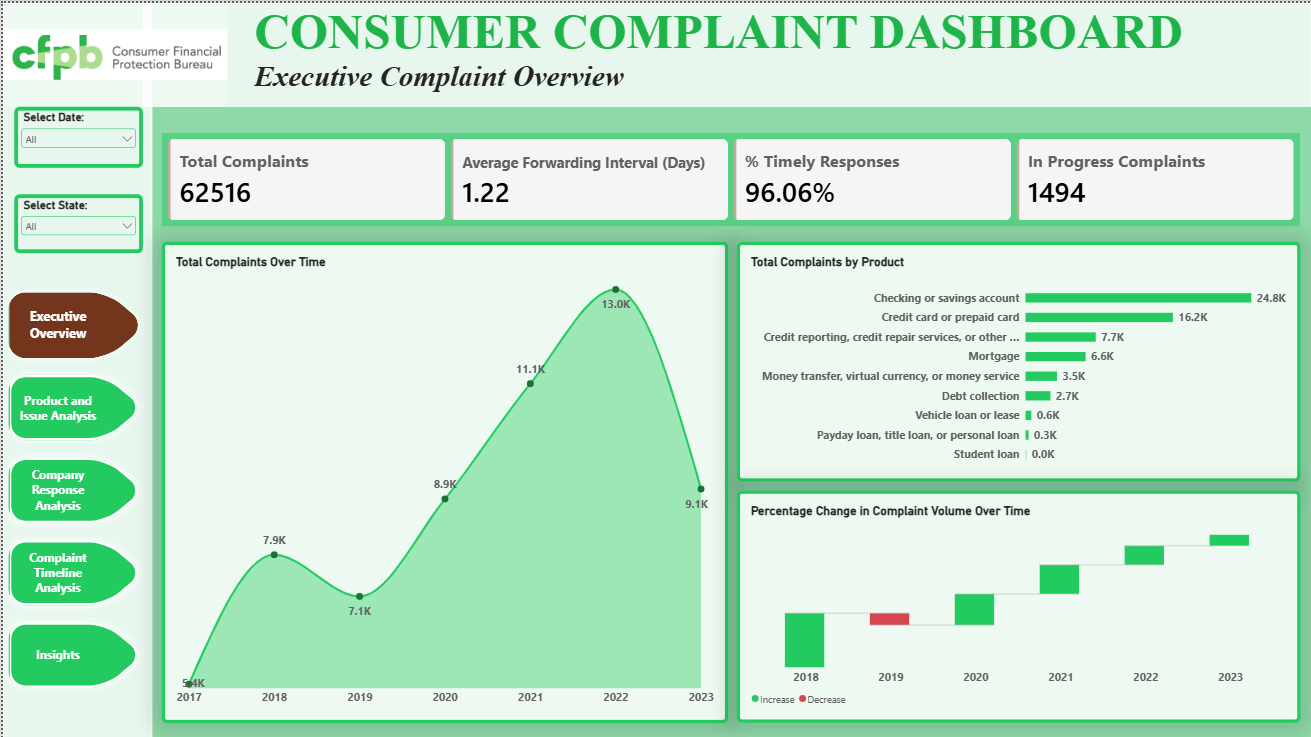

What the dashboard file says about the page in this screenshot:
{"tool":"powerbi","page":{"name":"Executive Overview","canvas":[1920,1080],"ordinal":0},"visuals":[{"type":"shape","box":[0,0,219,1080.4],"z":0},{"type":"slicer","title":"Select Date:","fields":{"Values":["Date.Year","Date.Quarter","Date.Month"]},"box":[16.5,152.2,188.9,89.9],"z":0,"group":"g2"},{"type":"shape","box":[206.3,0,1713.7,152],"z":1000},{"type":"image","box":[0,0,329.4,152],"z":2000},{"type":"slicer","fields":{"Values":["Consumer_Complaints.State"]},"box":[16.5,280.6,188.9,86.2],"z":2000,"group":"g2"},{"type":"textbox","box":[369.2,0,1550.9,152],"z":3000},{"type":"pageNavigator","title":"Navigation","box":[0,416.4,218.3,601.6],"z":4000},{"type":"areaChart","title":"Total Complaints Over Time","fields":{"Category":["Date.Year","Date.Month"],"Y":["Calculations.Total Complaints"]},"box":[232.6,349.9,831.6,706],"z":5000},{"type":"cardVisual","fields":{"Data":["Calculations.Total Complaints","Calculations.Average Forwarding Interval","Calculations.% Timely Responses","Calculations.In Progress Responses"]},"box":[232.6,191.4,1671.4,137.9],"z":6000,"group":"g1"},{"type":"clusteredBarChart","title":"Total Complaints by Product","fields":{"Category":["Consumer_Complaints.Product"],"Y":["Calculations.Total Complaints"]},"box":[1076.7,350.3,827.2,352.2],"z":6000},{"type":"group","id":"g1","title":"Group 1","box":[232.6,191.4,1671.4,137.9],"z":7000},{"type":"waterfallChart","title":"Percentage Change in Complaint Volume Over Time","fields":{"Category":["Date.Year"],"Y":["Calculations.%Year-over-Year Volume Changes"]},"box":[1076.7,715.4,827.2,341.2],"z":8000},{"type":"group","id":"g2","title":"Group 2","box":[16.5,152.2,188.9,214.6],"z":9000}]}

Visuals, with their boxes in screenshot pixels (x1, y1, x2, y2), scaled from the page's 1920x1080 canvas onto the 1311x737 screenshot:
shape: {"left": 0, "top": 0, "right": 150, "bottom": 736}
"Select Date:" slicer: {"left": 11, "top": 104, "right": 140, "bottom": 165}
shape: {"left": 141, "top": 0, "right": 1310, "bottom": 104}
image: {"left": 0, "top": 0, "right": 225, "bottom": 104}
slicer - Consumer_Complaints.State: {"left": 11, "top": 191, "right": 140, "bottom": 250}
textbox: {"left": 252, "top": 0, "right": 1310, "bottom": 104}
"Navigation" pageNavigator: {"left": 0, "top": 284, "right": 149, "bottom": 695}
"Total Complaints Over Time" areaChart: {"left": 159, "top": 239, "right": 727, "bottom": 721}
cardVisual - Calculations.Total Complaints x Calculations.Average Forwarding Interval: {"left": 159, "top": 131, "right": 1300, "bottom": 225}
"Total Complaints by Product" clusteredBarChart: {"left": 735, "top": 239, "right": 1300, "bottom": 479}
"Group 1" group: {"left": 159, "top": 131, "right": 1300, "bottom": 225}
"Percentage Change in Complaint Volume Over Time" waterfallChart: {"left": 735, "top": 488, "right": 1300, "bottom": 721}
"Group 2" group: {"left": 11, "top": 104, "right": 140, "bottom": 250}
